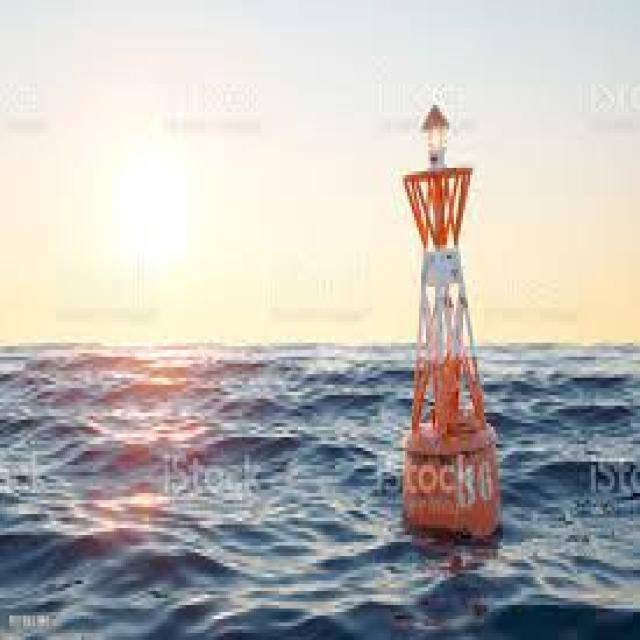buoy: (381, 88, 515, 551)
